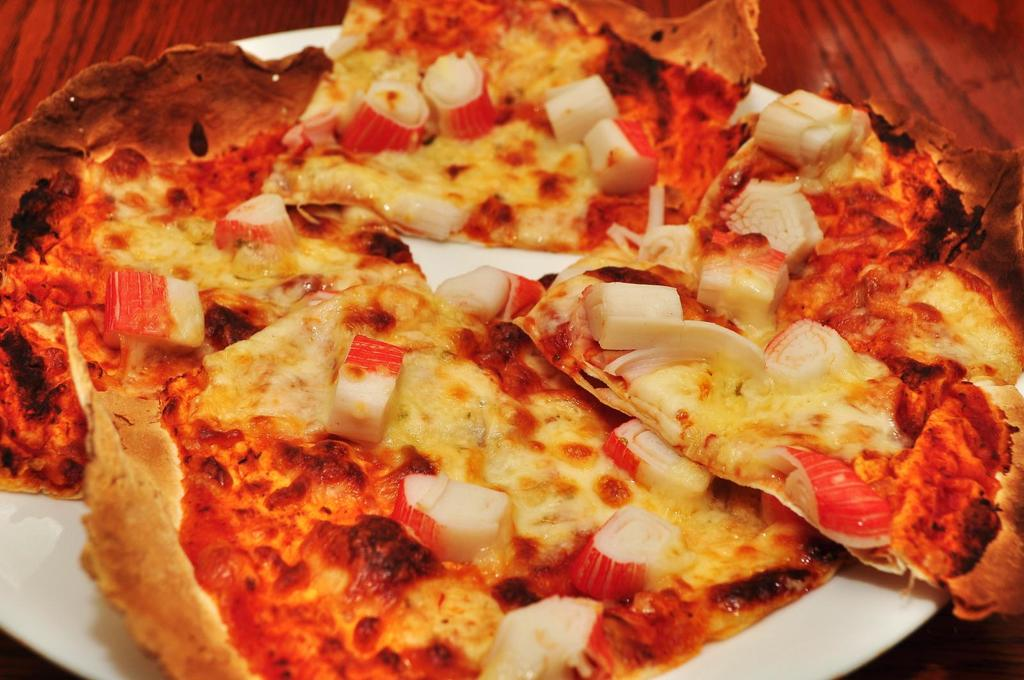Pizza: (0, 36, 995, 680)
